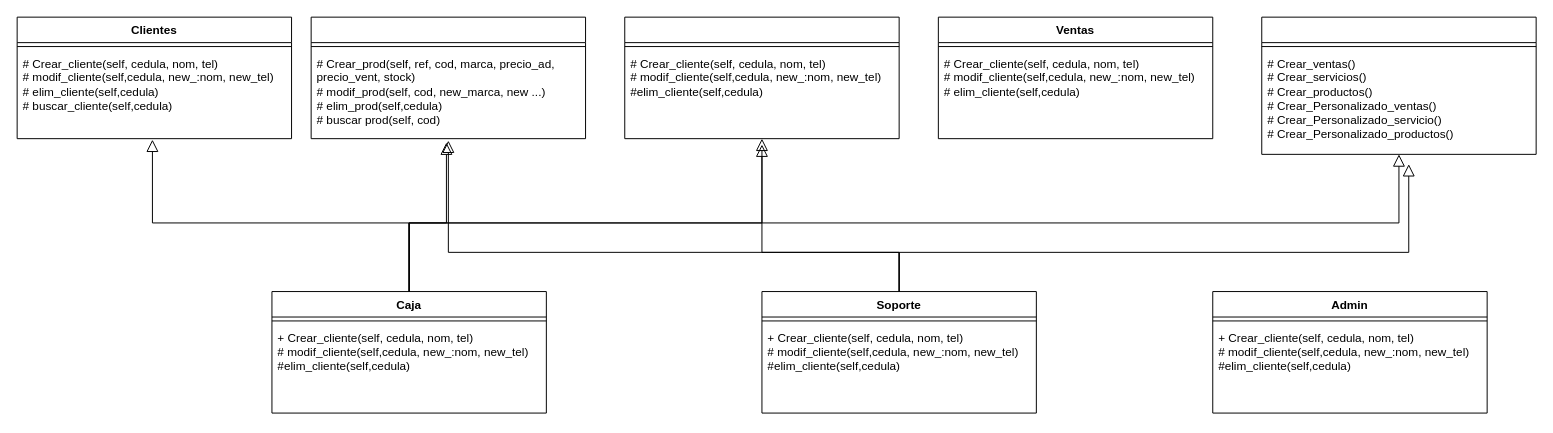
This 1553x433 diagram has some shape labels left out. Each missing label, with the box of its shape:
Productos: (310, 16, 586, 139)
Reportes: (1261, 16, 1536, 154)
Servicios: (624, 16, 899, 139)
